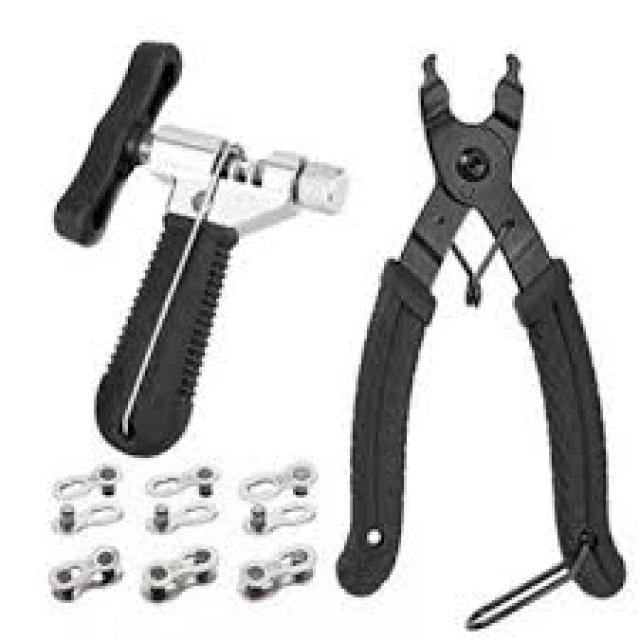pliers: (336, 41, 631, 604)
